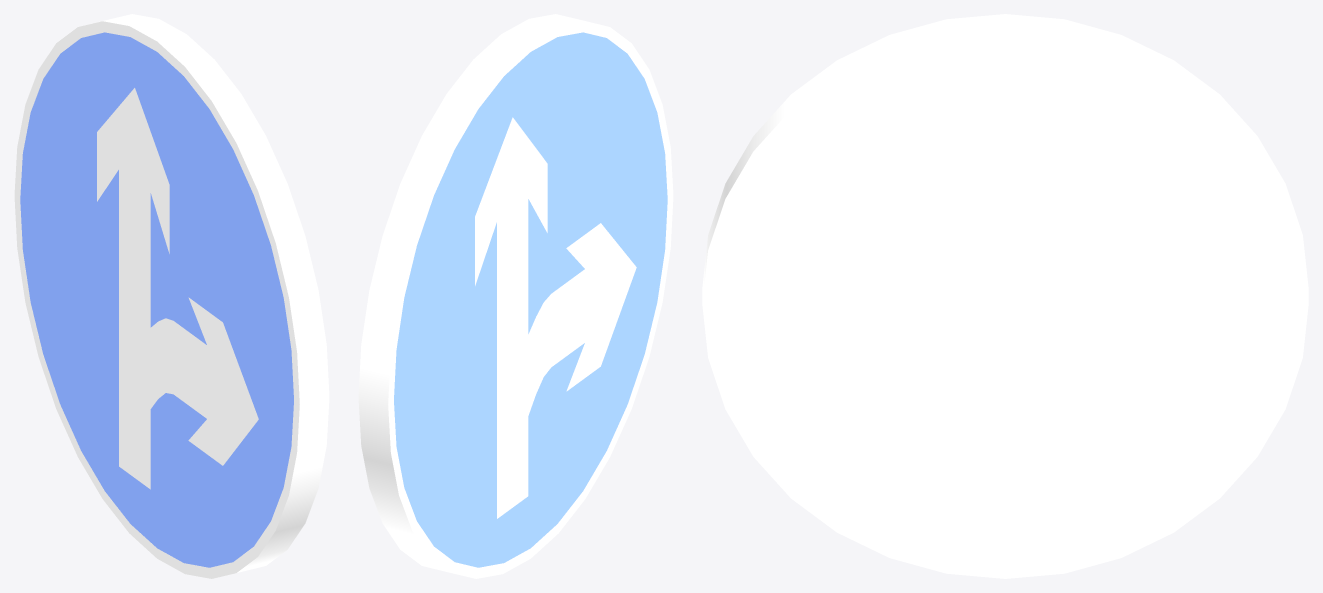
Rendered from Straight_And_Turn_Right.glb.
3 renders of one model, left to right at view 1: azimuth 30°, elevation 25°; view 2: azimuth 150°, elevation 25°; view 3: azimuth 270°, elevation 25°, orthographic. The views are drawn at different scales.
Visible parts, largest first — view 1: Straight_And_Turn_Right; view 2: Straight_And_Turn_Right; view 3: Straight_And_Turn_Right.
Part boxes in pixels (x1,y1,x2,y2): Straight_And_Turn_Right: [14, 14, 329, 578]; Straight_And_Turn_Right: [358, 14, 673, 578]; Straight_And_Turn_Right: [702, 14, 1308, 578].
Bounding box in the file's own units: 0.0643 × 1 × 1.
